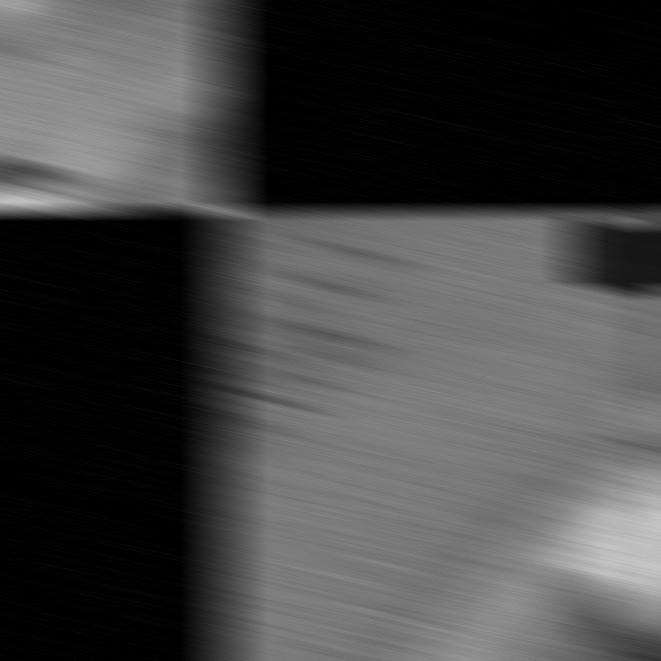Airbag: (213, 209, 661, 661), (0, 0, 234, 213)
